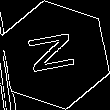N_E: (25, 31, 85, 79)
